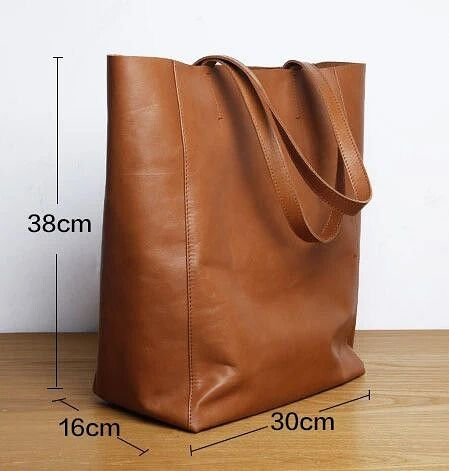cuero: (90, 49, 373, 433)
